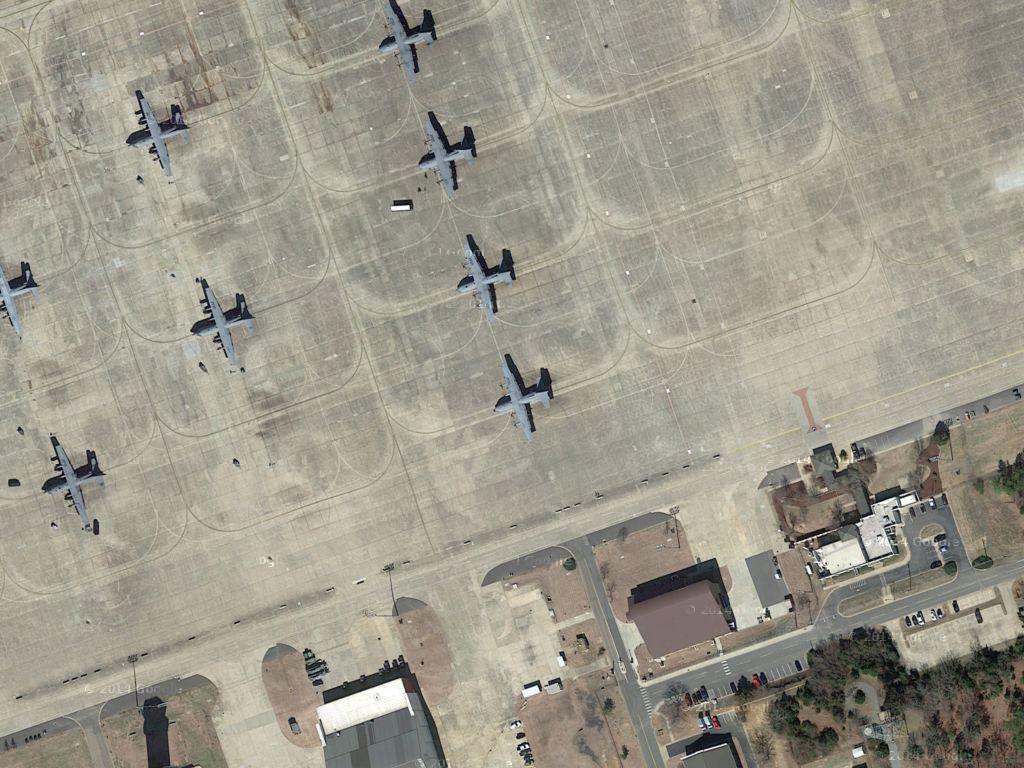C-130: (192, 272, 258, 360), (40, 432, 106, 519), (416, 109, 480, 194), (494, 352, 556, 437), (125, 94, 189, 173), (456, 236, 516, 315), (378, 1, 438, 74)
